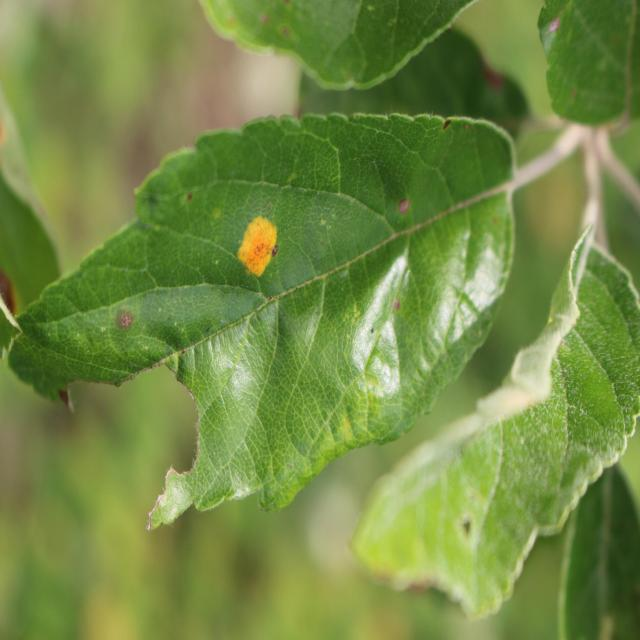Rust: (232, 192, 286, 292)
